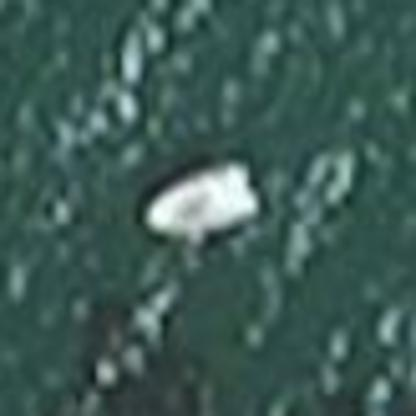ship: (126, 151, 275, 250)
